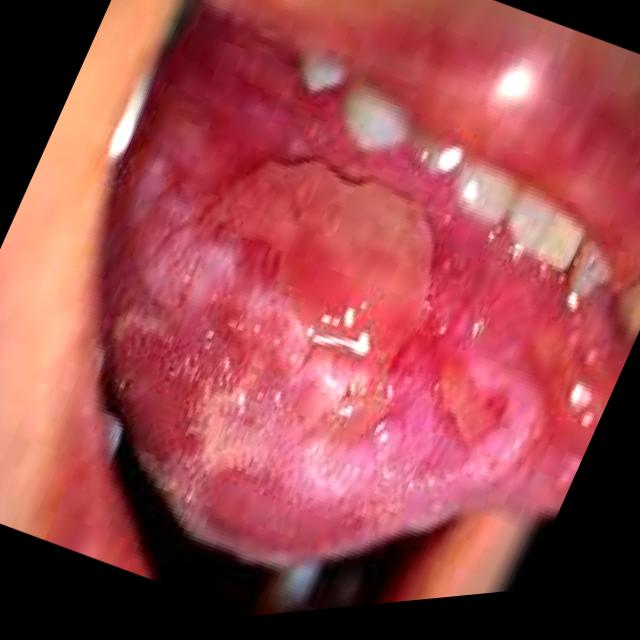ulcer: (102, 18, 630, 567)
